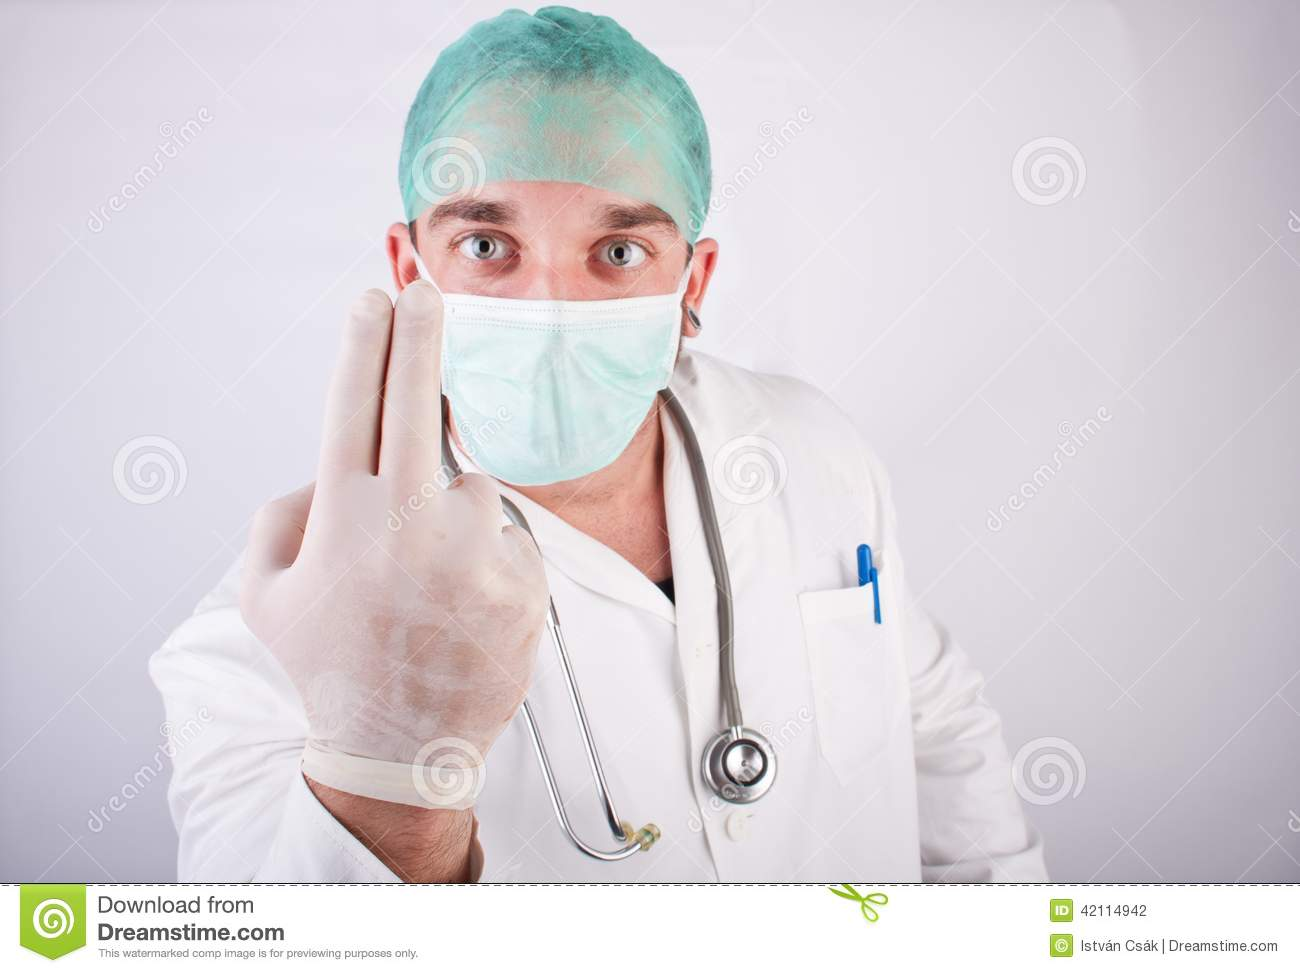mask: (424, 300, 717, 518)
